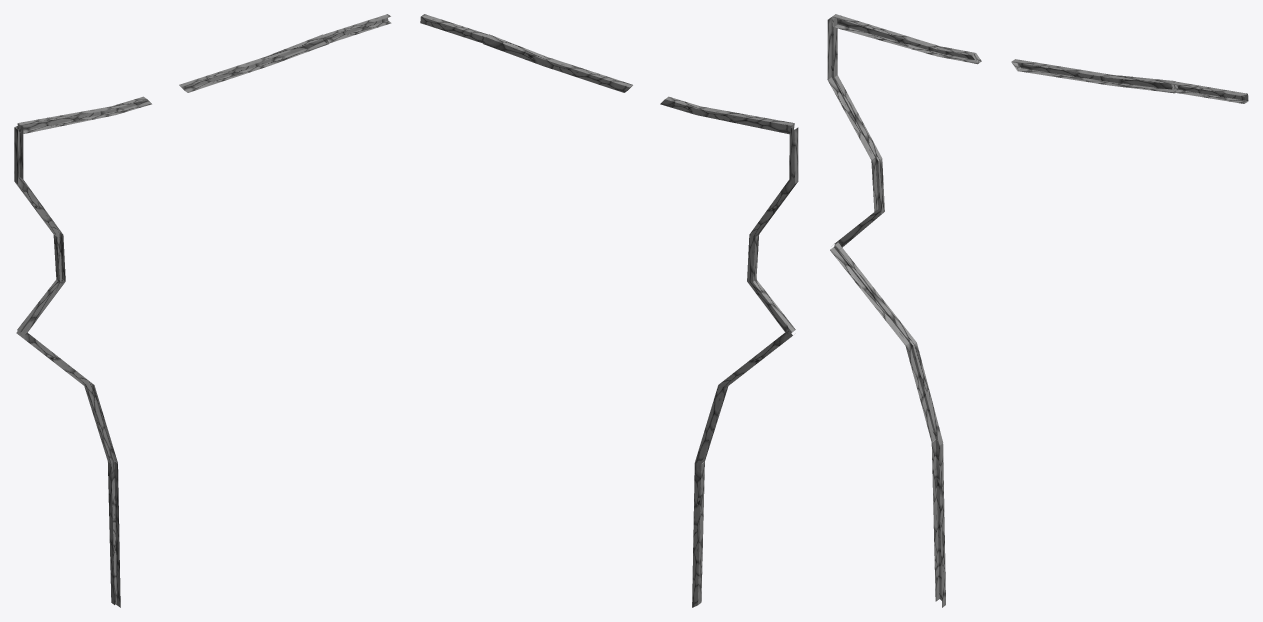
Rendered from tuong 9.fbx.
3 views of the same model, side by side, from view 1: azimuth 30°, elevation 25°; view 2: azimuth 150°, elevation 25°; view 3: azimuth 330°, elevation 25° (orthographic). The views are drawn at different scales.
Parts seen in each view (by area): view 1: polySurface45, polySurface40, polySurface43, polySurface42; view 2: polySurface45, polySurface40, polySurface43, polySurface42; view 3: polySurface45, polySurface40, polySurface43, polySurface42.
Boxes of the visible parts, left/top/right/bottom form: polySurface45: left=16, top=329, right=120, bottom=607; polySurface40: left=179, top=14, right=391, bottom=92; polySurface43: left=14, top=125, right=65, bottom=334; polySurface42: left=17, top=96, right=151, bottom=134; polySurface45: left=692, top=330, right=792, bottom=607; polySurface40: left=420, top=14, right=632, bottom=92; polySurface43: left=747, top=127, right=798, bottom=334; polySurface42: left=660, top=96, right=794, bottom=134; polySurface45: left=830, top=242, right=945, bottom=607; polySurface40: left=1011, top=59, right=1248, bottom=103; polySurface43: left=827, top=17, right=884, bottom=251; polySurface42: left=831, top=14, right=981, bottom=64.
Bounding box in the file's own units: 13.13 × 17.6 × 0.2323.
1 material, 1 textured.
